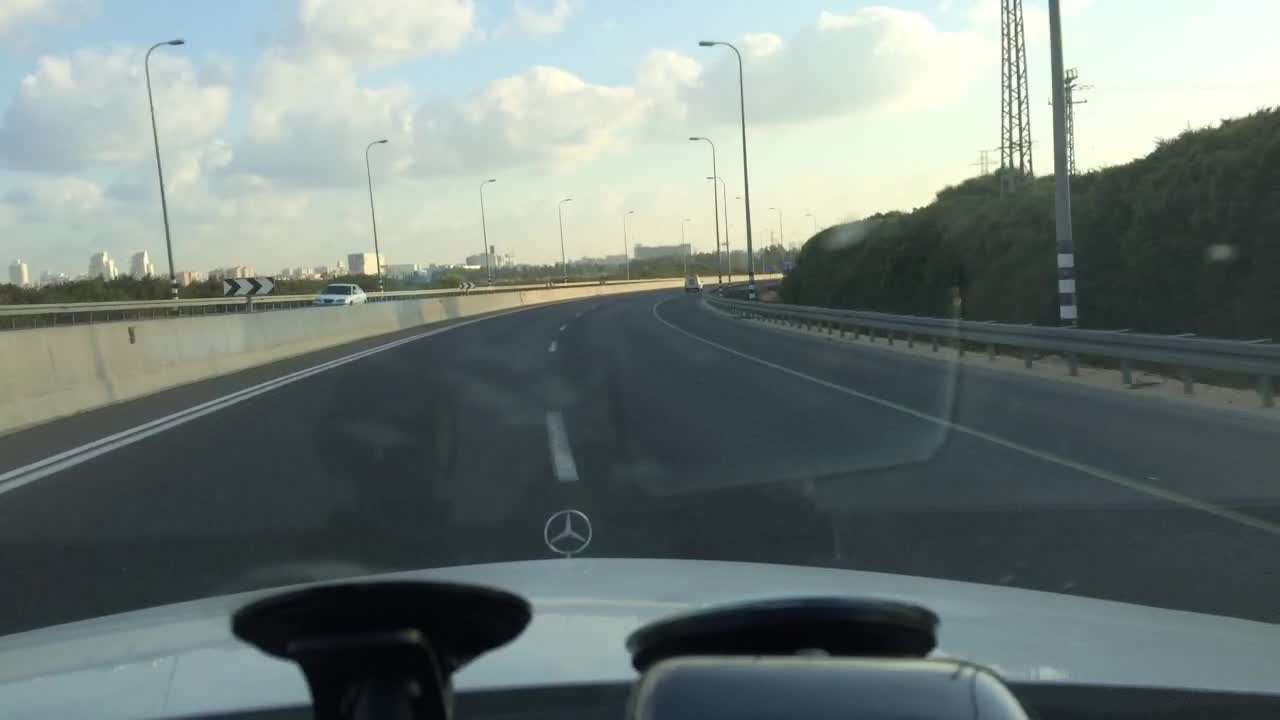car: (310, 280, 363, 307), (681, 273, 705, 290)
traffic sign: (223, 277, 274, 295), (460, 279, 474, 289)
